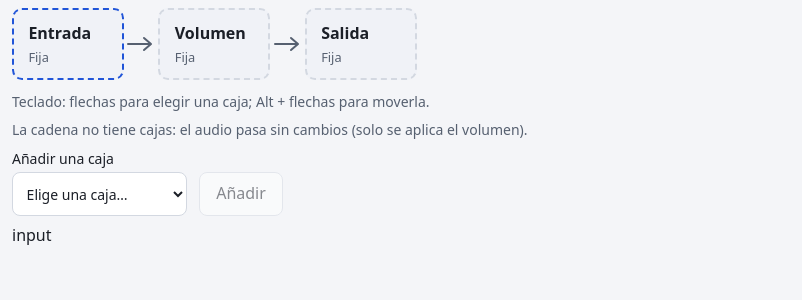
Test: ChainEditor › añade filtros y modelos instalados; los no instalados aparecen deshabilitados
Expected: the text "La cadena no tiene cajas: el audio pasa sin cambios (solo se aplica el volumen)." is shown, [12,120,528,139]
Select "Recorte de graves" in the dropdown labelled "Añadir una caja". click: {"x": 100, "y": 194}
box: [12,172,187,216]
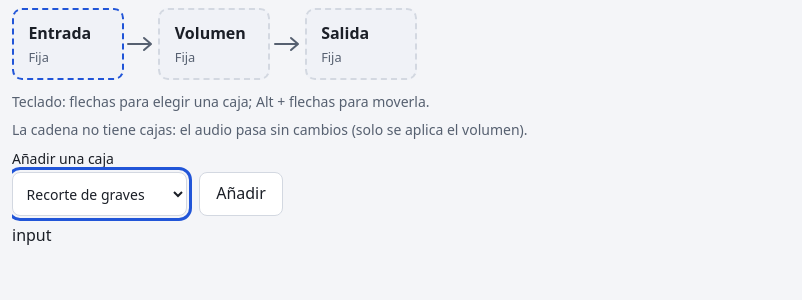
Click the button "Añadir". click: {"x": 241, "y": 194}
box: [199,172,283,216]
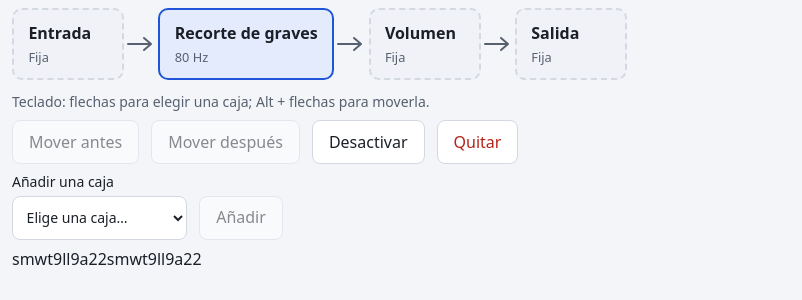
Select "Kim Vocal 2" in the dropdown labelled "Añadir una caja". click: {"x": 100, "y": 218}
box: [12,196,187,240]
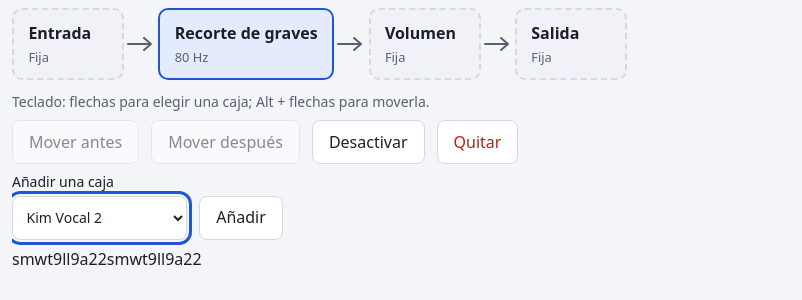
Click the button "Añadir". click: {"x": 241, "y": 218}
box: [199,196,283,240]
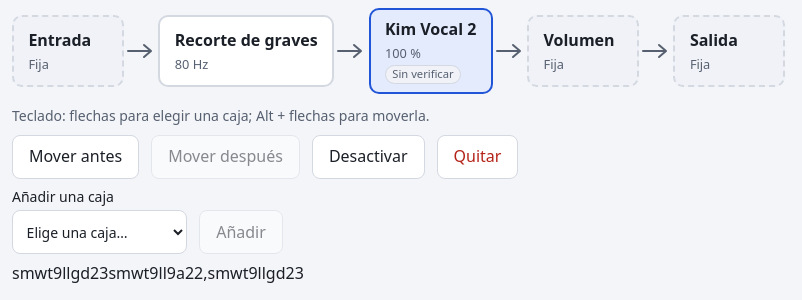
Now the text "Sin verificar" is shown, box [385,64,461,84]
